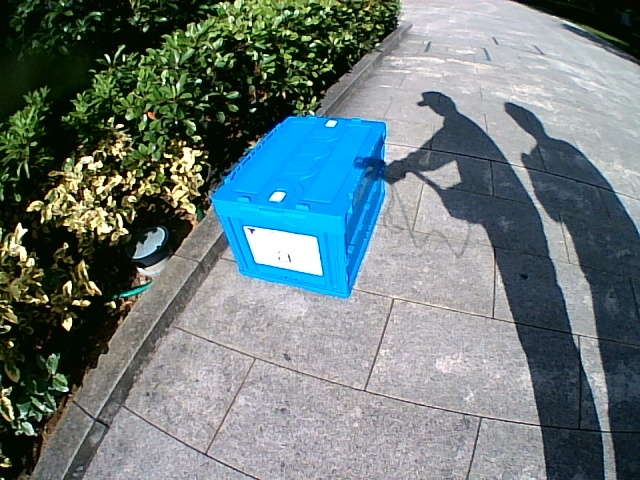green_box: (210, 116, 386, 298)
tag_b: (254, 238, 320, 269)
